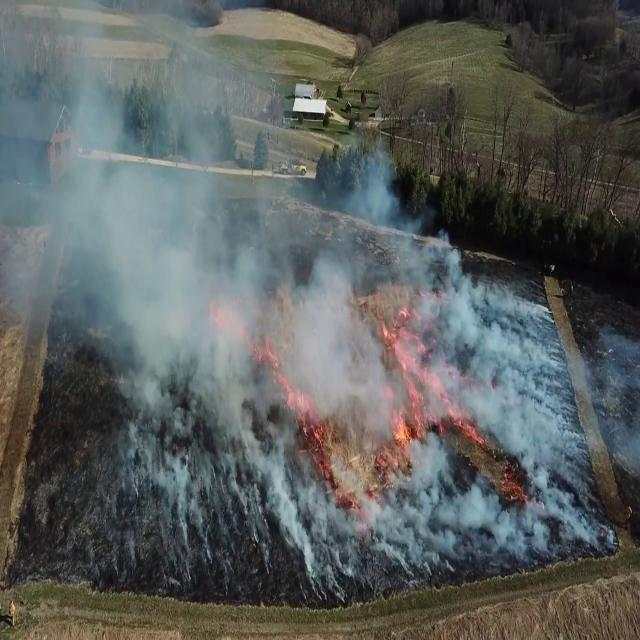Smoke: (6, 20, 507, 573)
